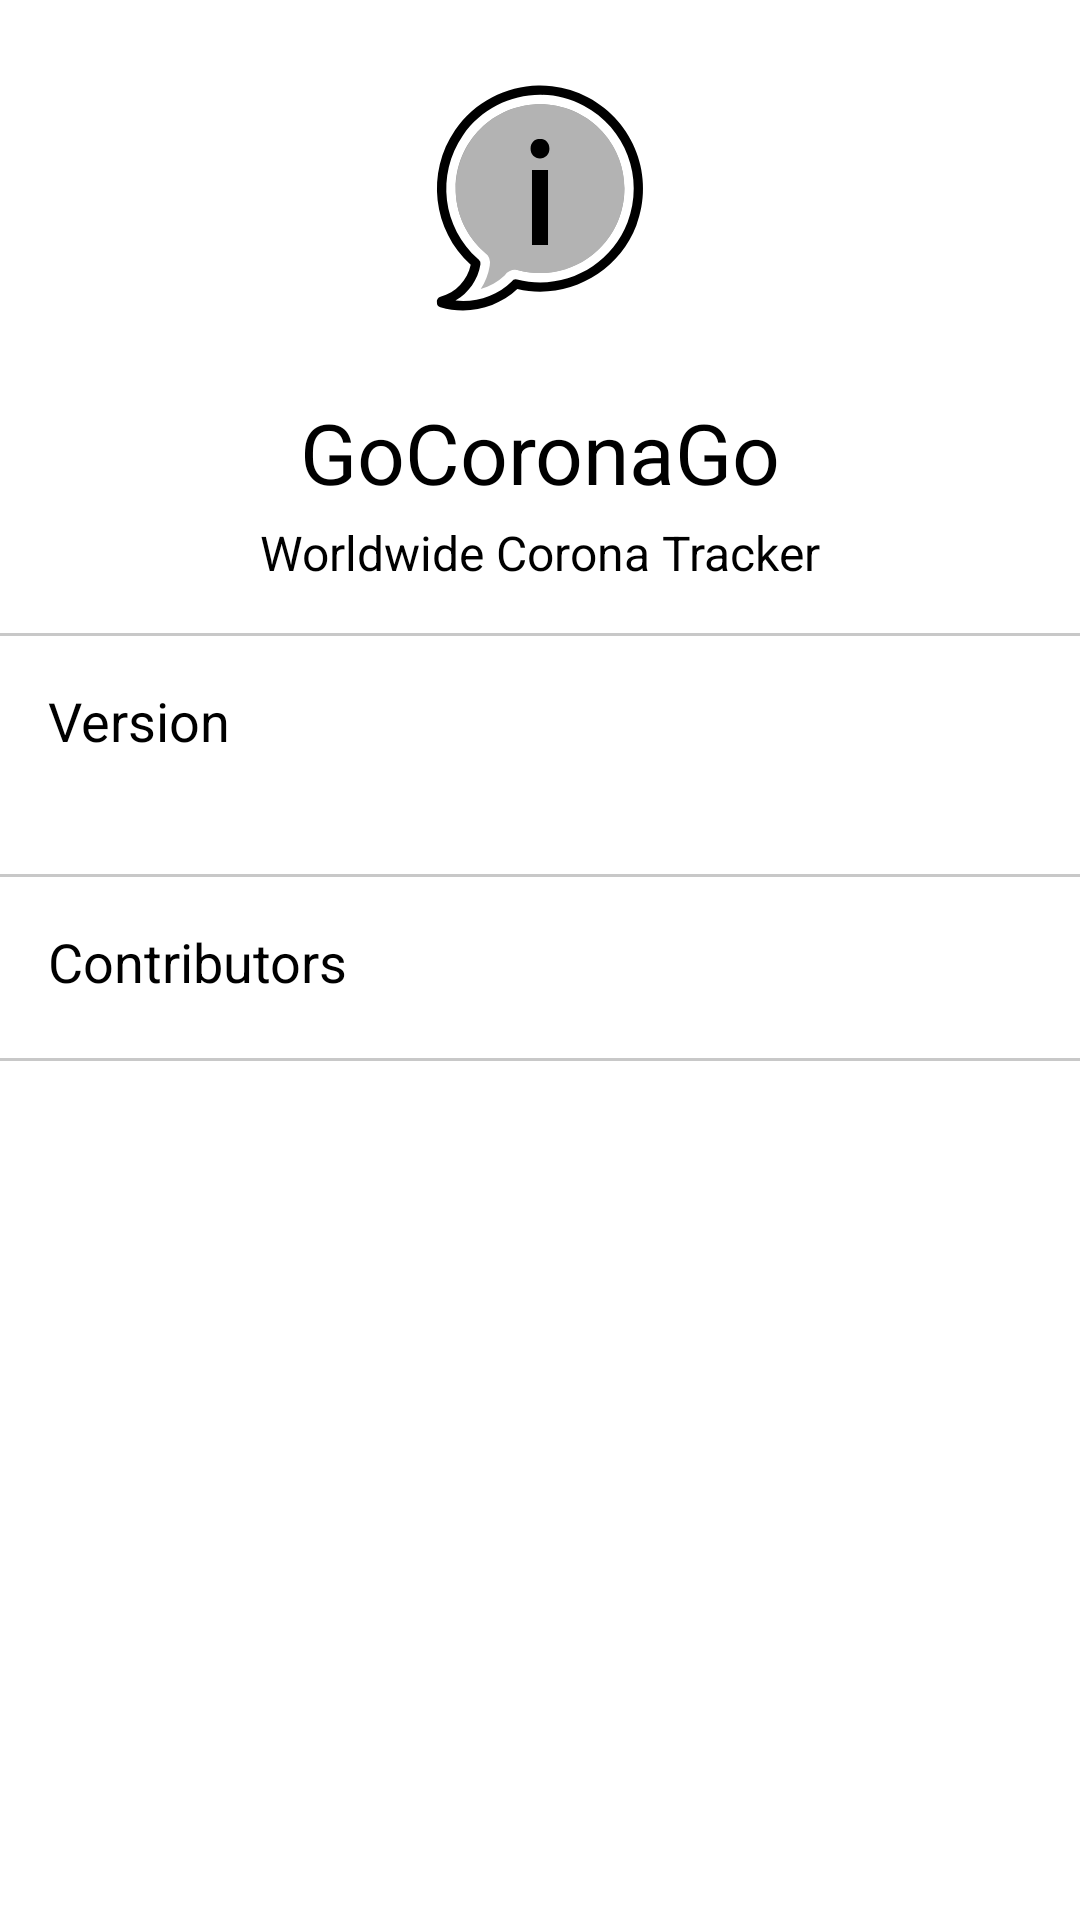

Locate icon controls on the screen. Image size 1080 x 1920, boxes as (x1, y1, x2, y2).
about: (436, 85, 643, 311)
